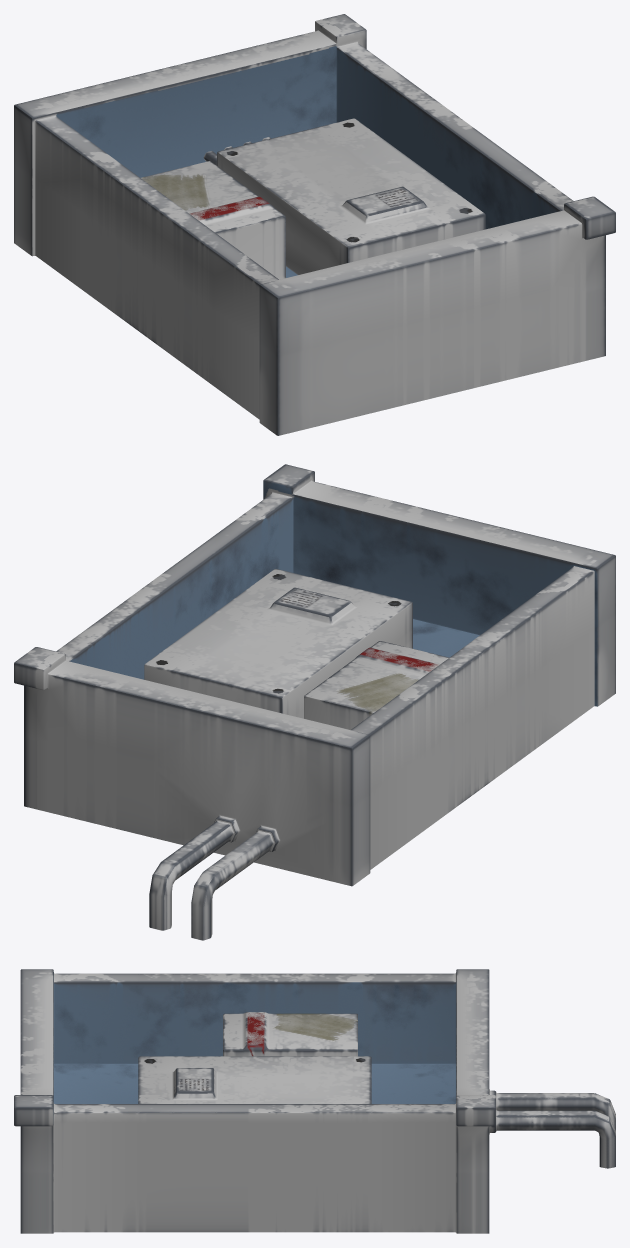
Rendered from electricBox2.gltf.
3 renders of one model, top to bottom at view 1: azimuth 30°, elevation 25°; view 2: azimuth 150°, elevation 25°; view 3: azimuth 270°, elevation 25°, orthographic. The views are drawn at different scales.
Visible parts, largest first — view 1: electricBox2; view 2: electricBox2; view 3: electricBox2.
Part boxes in pixels (bbox=[...]): electricBox2: bbox=[14, 14, 615, 435]; electricBox2: bbox=[14, 464, 615, 940]; electricBox2: bbox=[14, 969, 615, 1233].
Bounding box in the file's own units: 0.78 × 0.3693 × 1.37.
Materials: 1 (1 with a texture image).
